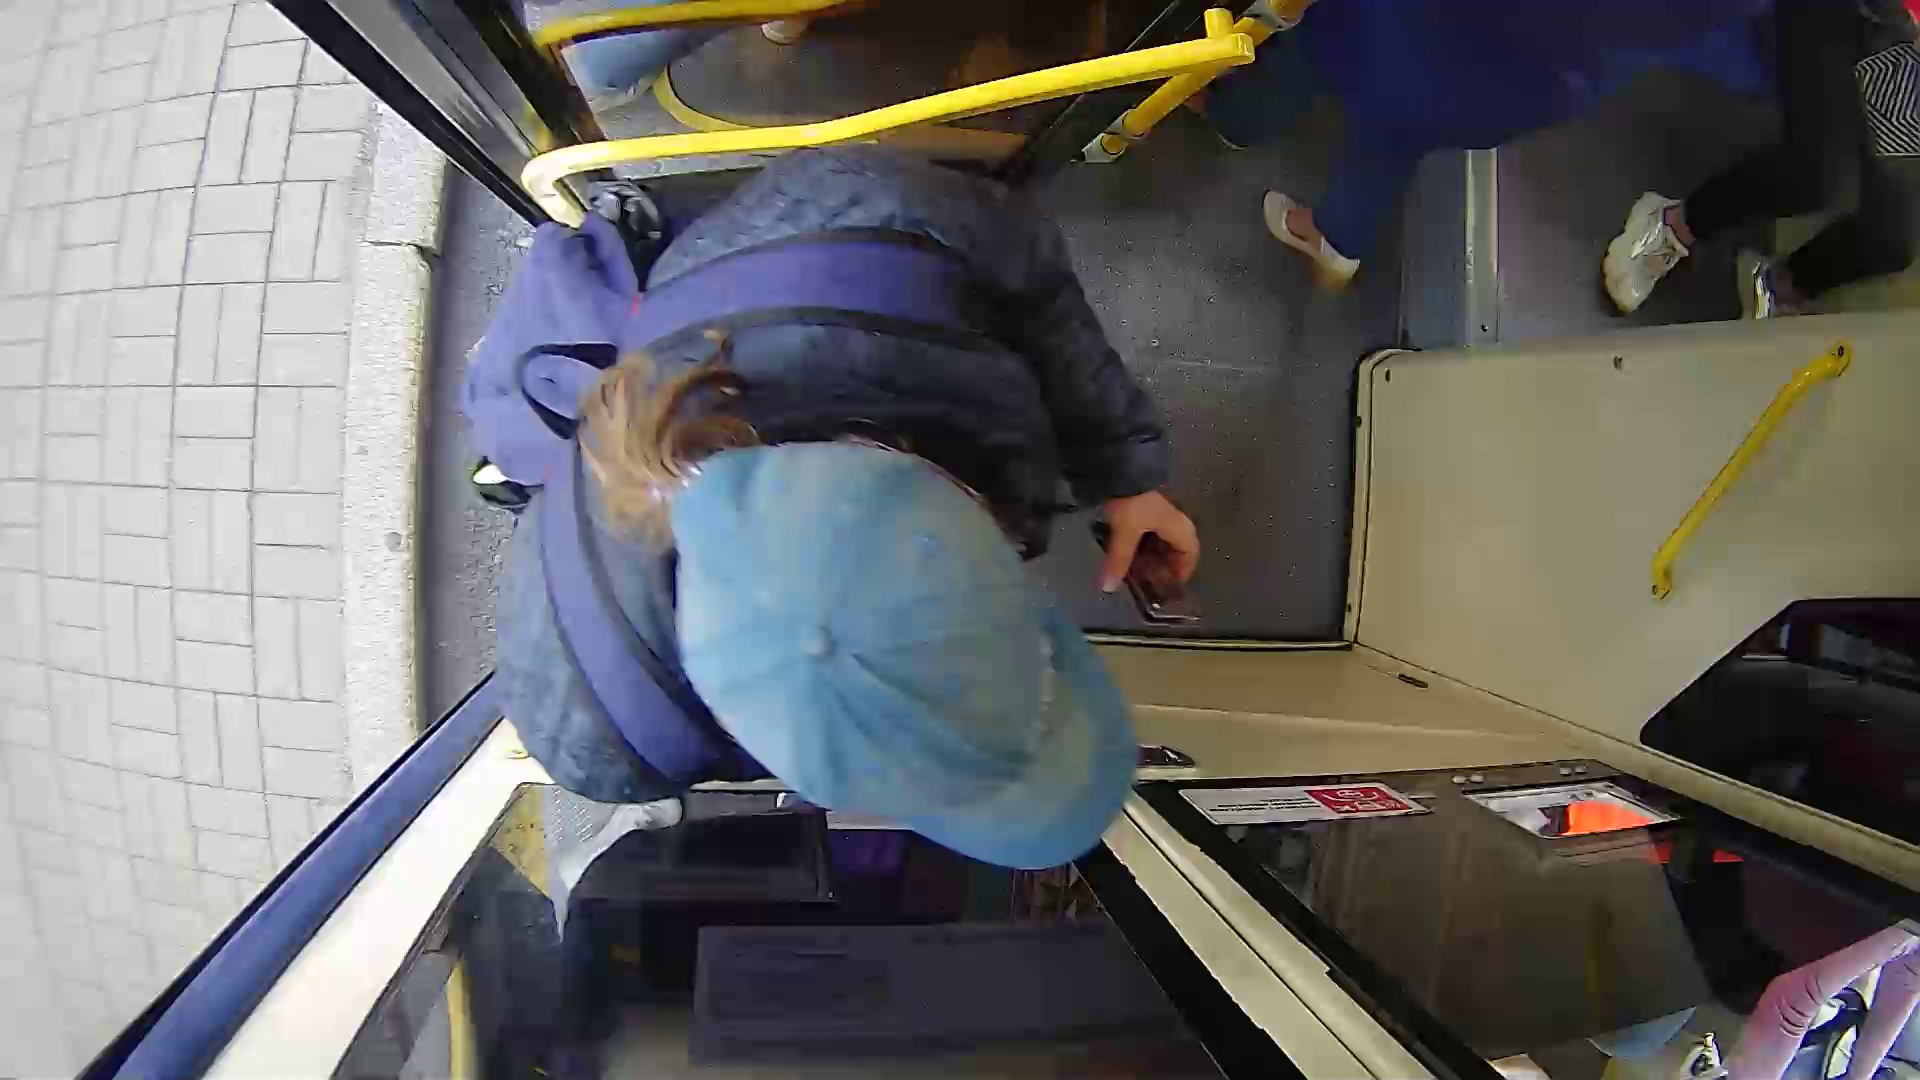person: (451, 154, 1233, 904)
